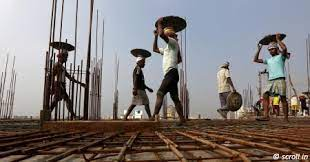arm: (226, 70, 239, 92)
face: (152, 19, 171, 37)
footwear: (175, 112, 187, 124), (147, 109, 160, 120), (216, 105, 229, 114)
human: (132, 13, 188, 123), (253, 32, 292, 108), (213, 58, 238, 110)
leg: (169, 88, 187, 124), (146, 86, 164, 120), (217, 91, 229, 112)
nohelmet: (152, 13, 186, 39)
novest: (153, 34, 182, 78), (263, 46, 286, 78)
vest: (216, 68, 233, 92)
